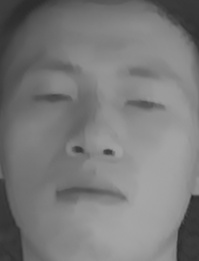eye: (124, 86, 171, 120), (30, 81, 78, 114)
mouth: (51, 172, 130, 211)
